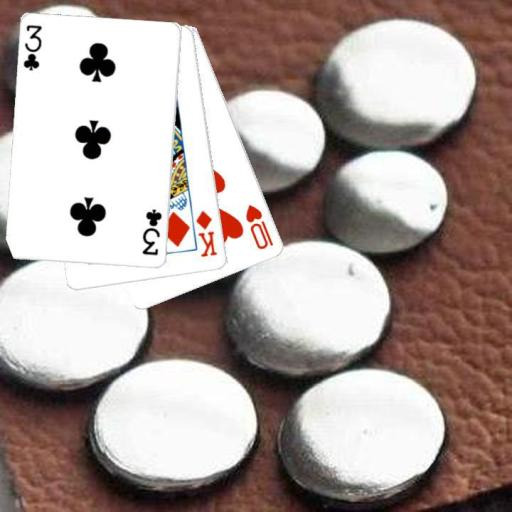10H: (243, 201, 275, 251)
3C: (140, 207, 165, 258), (20, 22, 43, 73)
KD: (193, 207, 219, 259)
